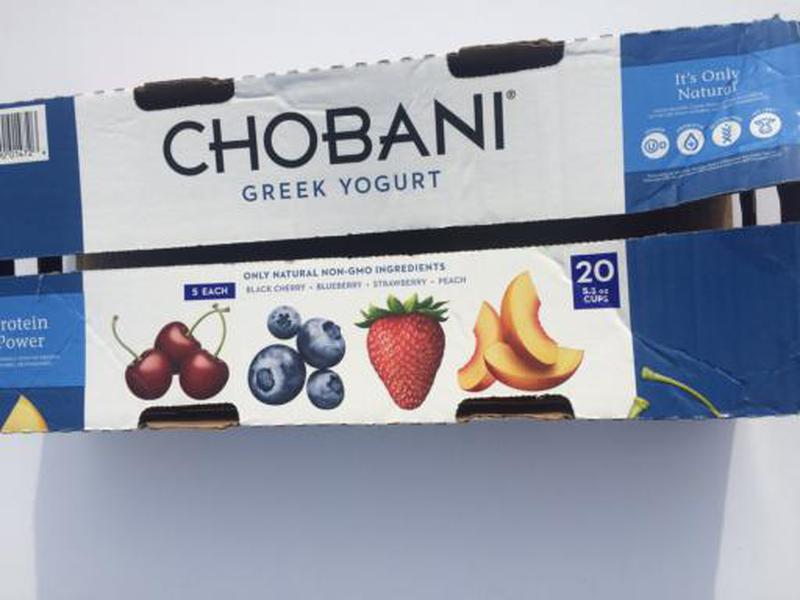cardboard: (1, 13, 800, 436)
